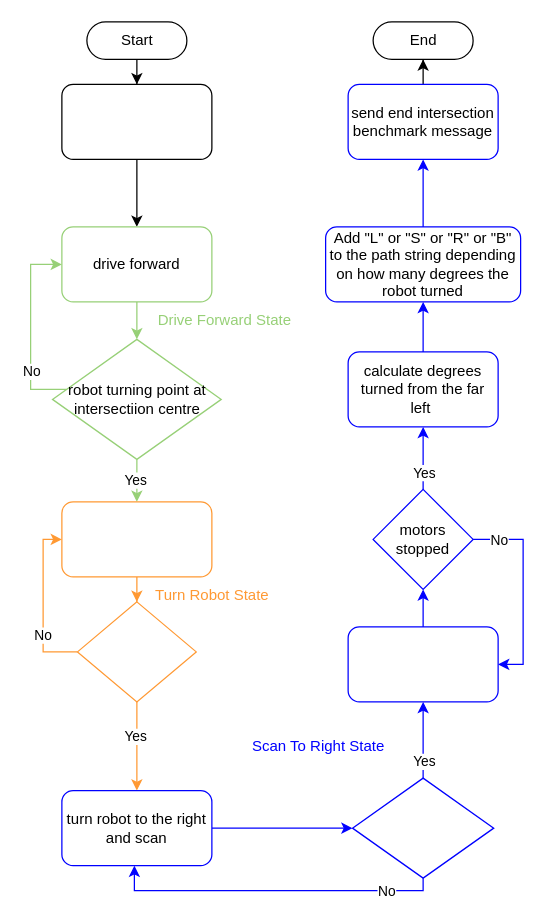
Image size: 555x923. Some labels were removed from this diagram. The shapes that lost their labels are listed below. From the top down, each one's centre as x and y in pixels, then its label:
At (x=136, y=121): "send start intersection benchmark message".
At (x=136, y=539): "turn robot to the left".
At (x=136, y=651): "reached 135°".
At (x=422, y=664): "stop driving motors".
At (x=422, y=827): "last color value is black".
